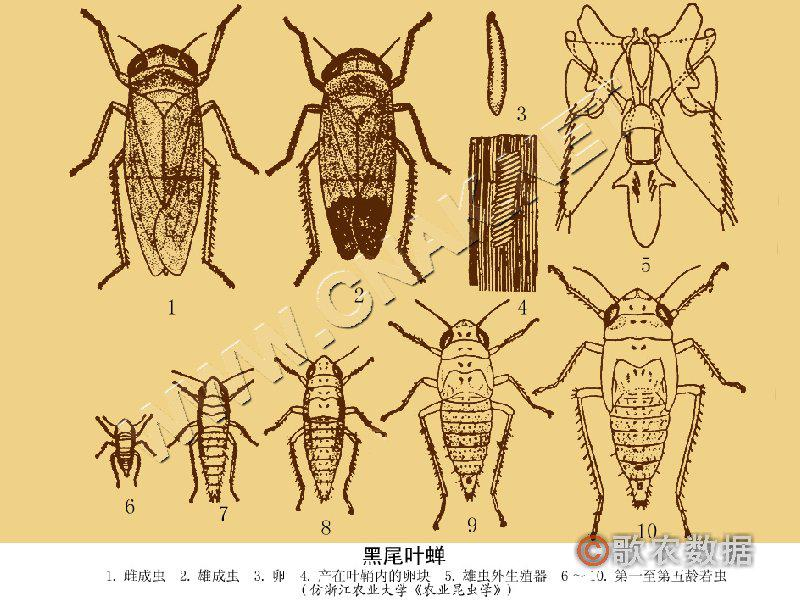Cicadellidae: (76, 4, 258, 290), (265, 14, 446, 285)
